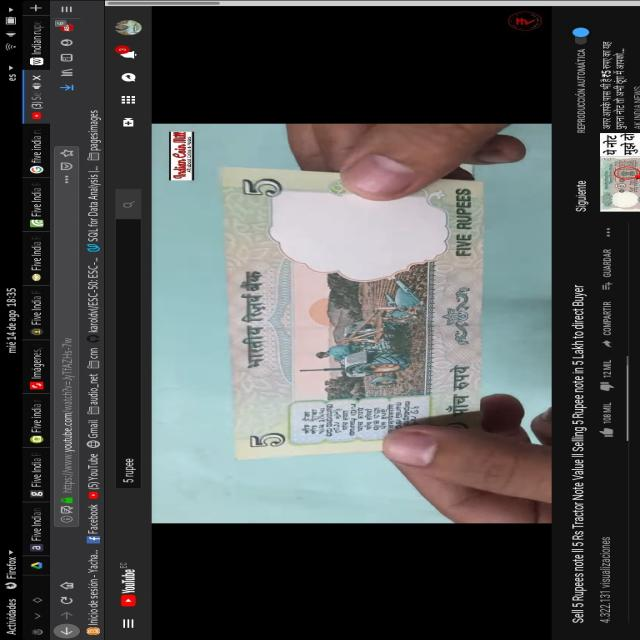5IndianRupees: (224, 166, 486, 460)
